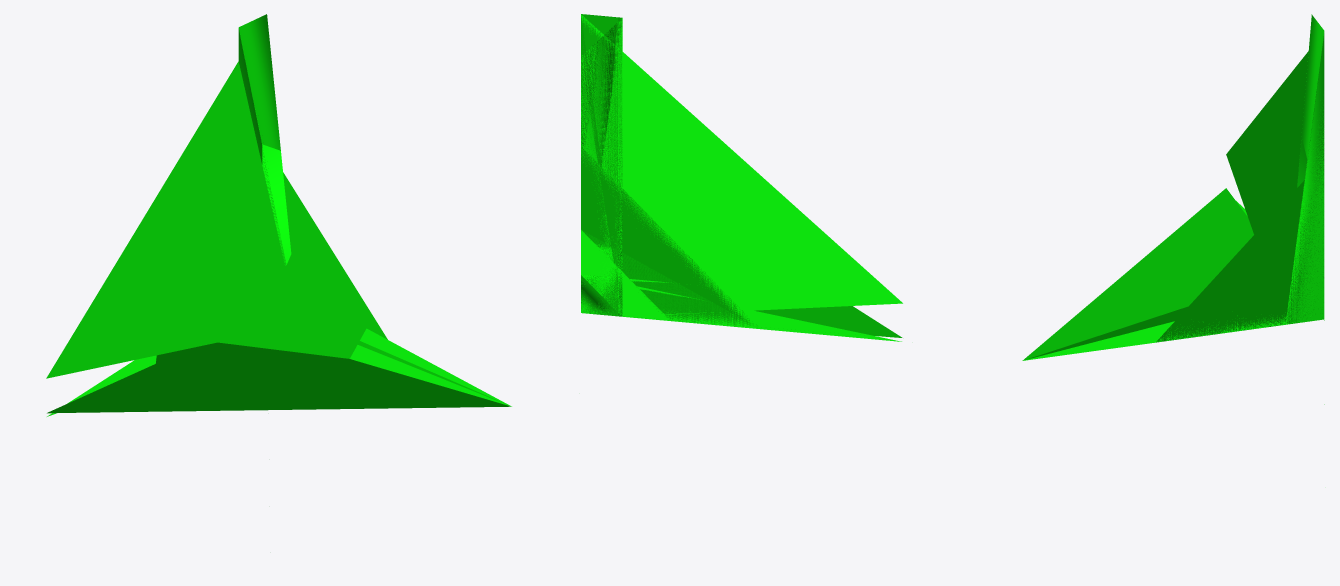
The model's file is TOUR - 6.fbx.
3 renders of one model, left to right at view 1: azimuth 30°, elevation 25°; view 2: azimuth 150°, elevation 25°; view 3: azimuth 270°, elevation 25°, orthographic. The views are drawn at different scales.
Parts seen in each view (by area): view 1: Cube.002, Cube.005, Cube; view 2: Cube.002, Cube, Cube.005; view 3: Cube.002, Cube, Cube.005.
Boxes of the visible parts, box(x1,y1,x2,y2) form: Cube.002: box(47, 14, 505, 416); Cube.005: box(46, 15, 511, 415); Cube: box(156, 172, 387, 363); Cube.002: box(581, 14, 902, 341); Cube: box(581, 146, 760, 329); Cube.005: box(581, 15, 899, 310); Cube.002: box(1022, 14, 1324, 360); Cube: box(1156, 180, 1323, 342); Cube.005: box(1043, 15, 1324, 355).
Bounding box in the file's own units: 5.04e+09 × 6.54e+09 × 3.81e+09.
